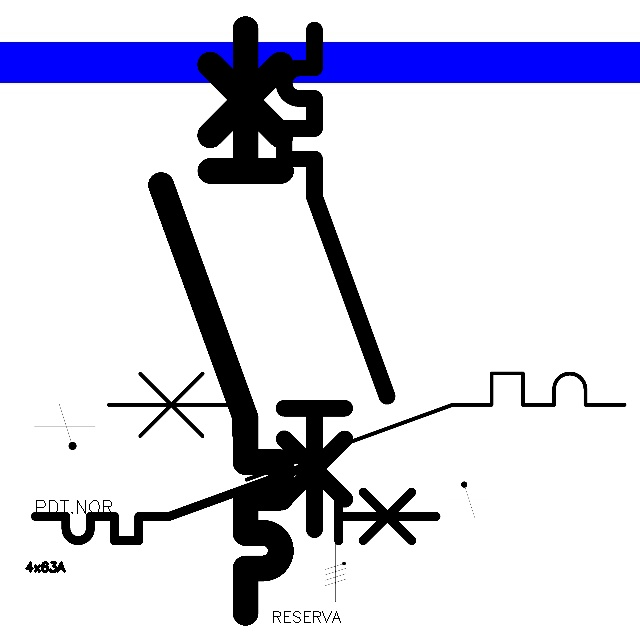interruptor_termomagnetico: (146, 14, 296, 628), (95, 360, 638, 493), (271, 17, 399, 542), (25, 448, 447, 551)
